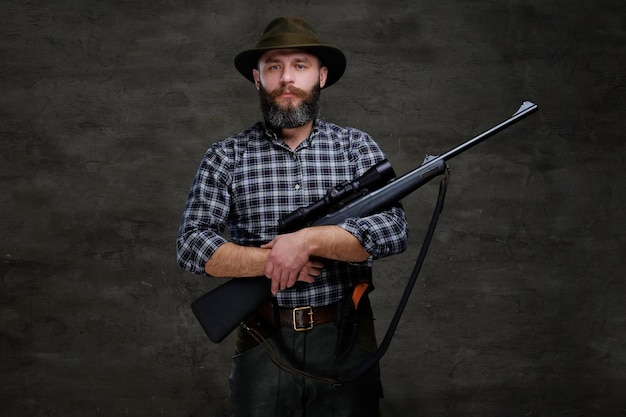gun: (192, 99, 539, 345)
